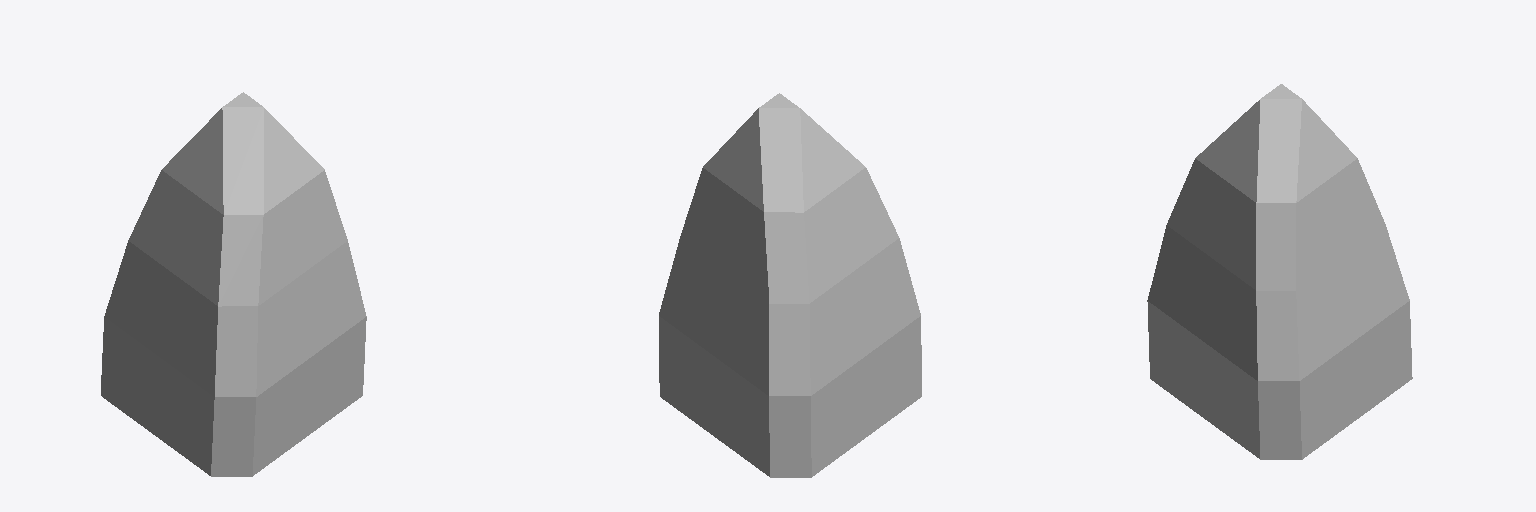
The model's file is Rock.obj.
The picture shows the model from 3 angles: view 1: azimuth 30°, elevation 25°; view 2: azimuth 150°, elevation 25°; view 3: azimuth 270°, elevation 25°; orthographic projection.
Parts seen in each view (by area): view 1: pCylinder1; view 2: pCylinder1; view 3: pCylinder1.
Part boxes in pixels (left/top/right/bottom): pCylinder1: left=101, top=92, right=366, bottom=476; pCylinder1: left=659, top=93, right=921, bottom=477; pCylinder1: left=1147, top=84, right=1412, bottom=459.
Size of the model in its own units: 131 by 196 by 151.